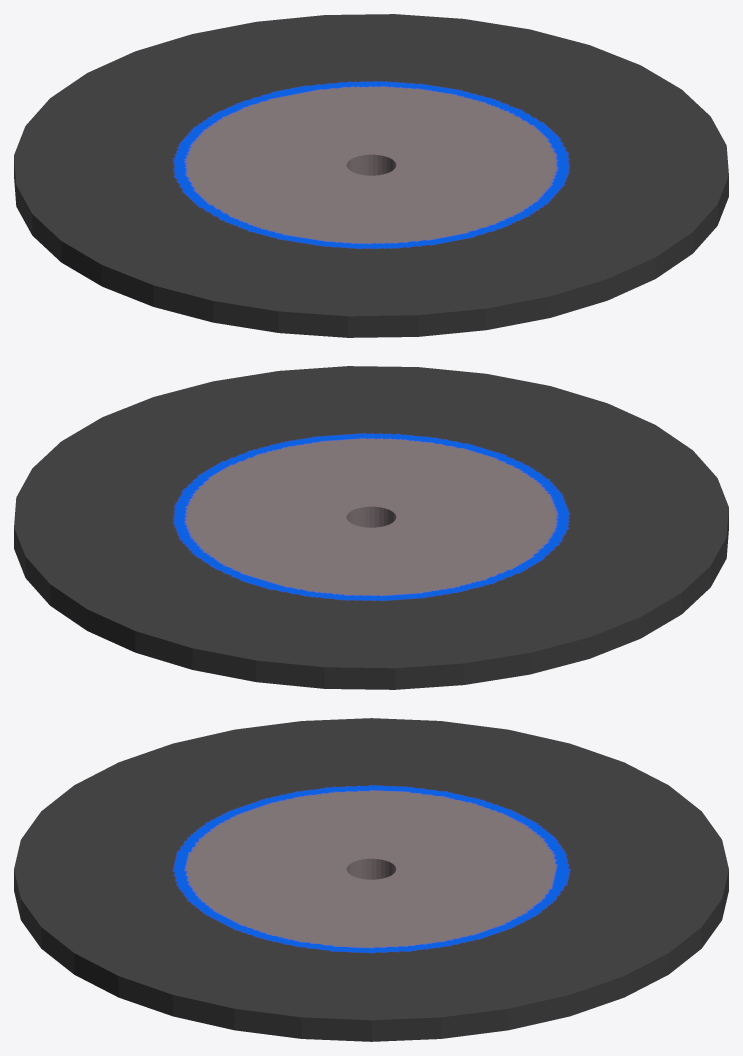
File: vinyl_record_blue.fbx
3 renders of one model, top to bottom at view 1: azimuth 30°, elevation 25°; view 2: azimuth 150°, elevation 25°; view 3: azimuth 270°, elevation 25°, orthographic.
Visible parts, largest first — view 1: vinyl_record_blue_Baked; view 2: vinyl_record_blue_Baked; view 3: vinyl_record_blue_Baked.
Boxes of the visible parts, left/top/right/bottom form: vinyl_record_blue_Baked: left=14, top=14, right=728, bottom=337; vinyl_record_blue_Baked: left=14, top=366, right=728, bottom=689; vinyl_record_blue_Baked: left=14, top=718, right=728, bottom=1041.
Size of the model in its own units: 30 by 1 by 30.
Materials: 1 (1 with a texture image).
